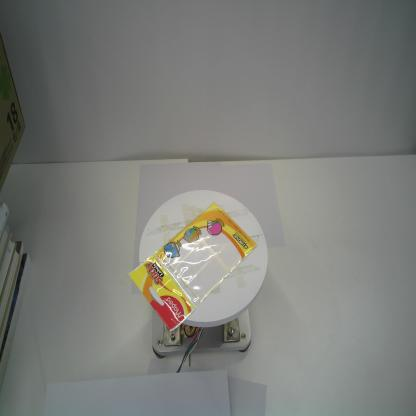Stationery: (124, 198, 258, 334)
